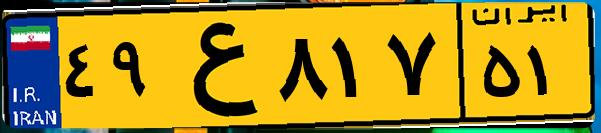1: (330, 28, 385, 110), (525, 38, 570, 115)
4: (57, 26, 110, 100)
5: (475, 38, 525, 113)
7: (385, 28, 445, 110)
8: (270, 28, 330, 110)
9: (110, 28, 158, 98)
ع: (158, 12, 270, 120)
